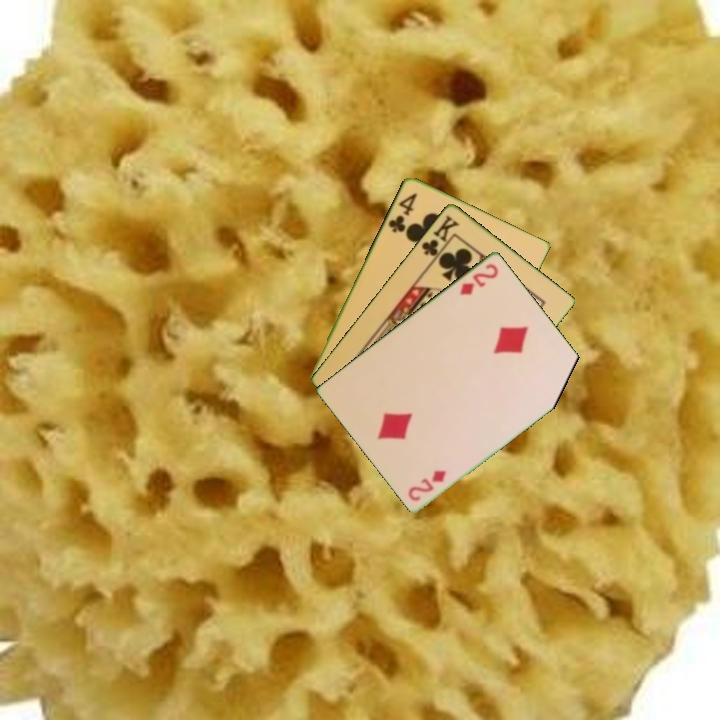2d: (456, 259, 501, 298), (404, 466, 449, 504)
4c: (384, 189, 420, 235)
Kc: (418, 211, 462, 264)
